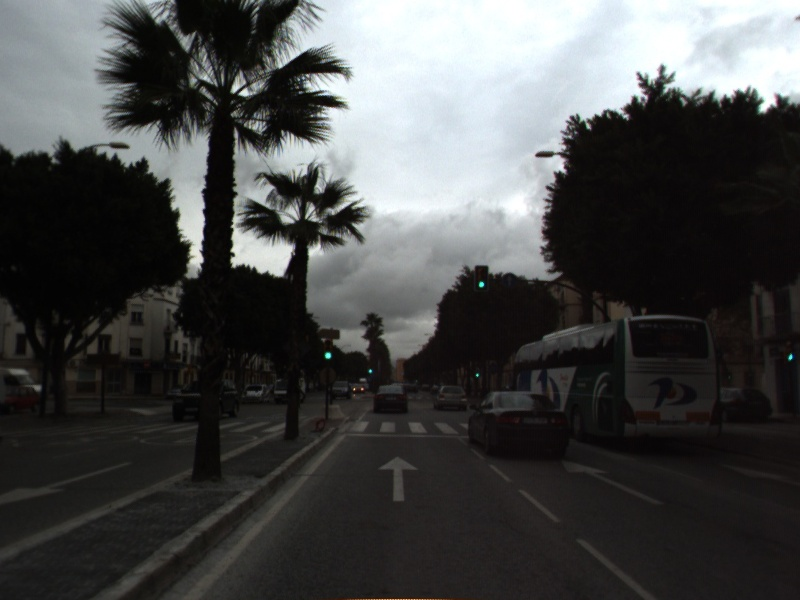STRAIGHT: (559, 457, 667, 507), (376, 454, 420, 503), (720, 462, 800, 486)
